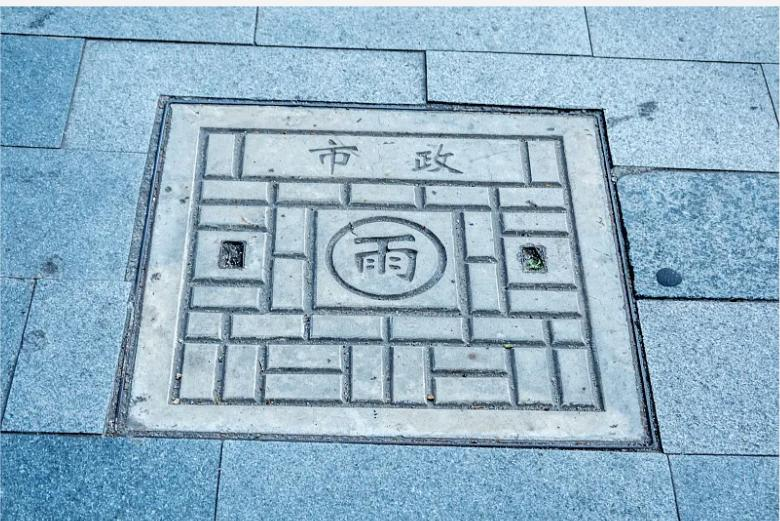wellcover: (137, 88, 675, 461)
